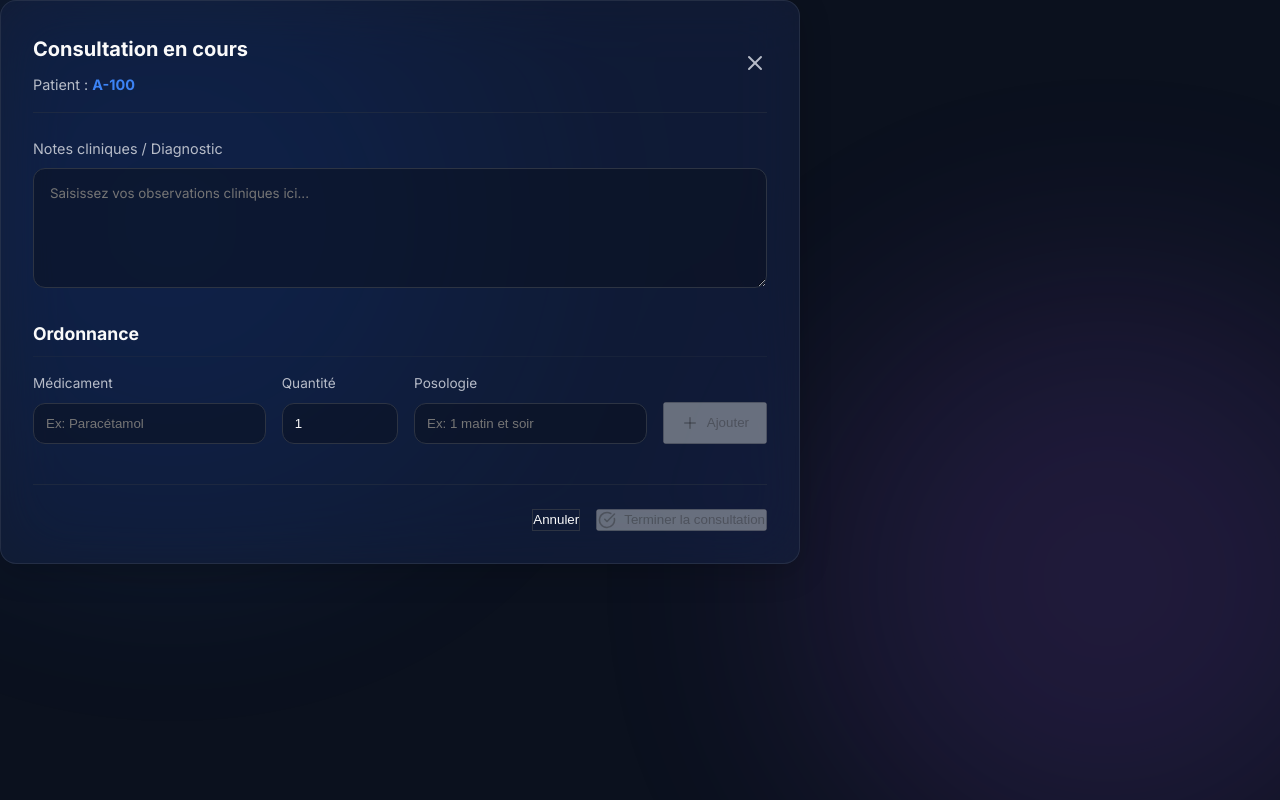
Test case: ConsultationModal › permet de supprimer un médicament ajouté
In the field with placeholder "Ex: Paracétamol": (149, 423) [33,403,266,444], type "Test Med"
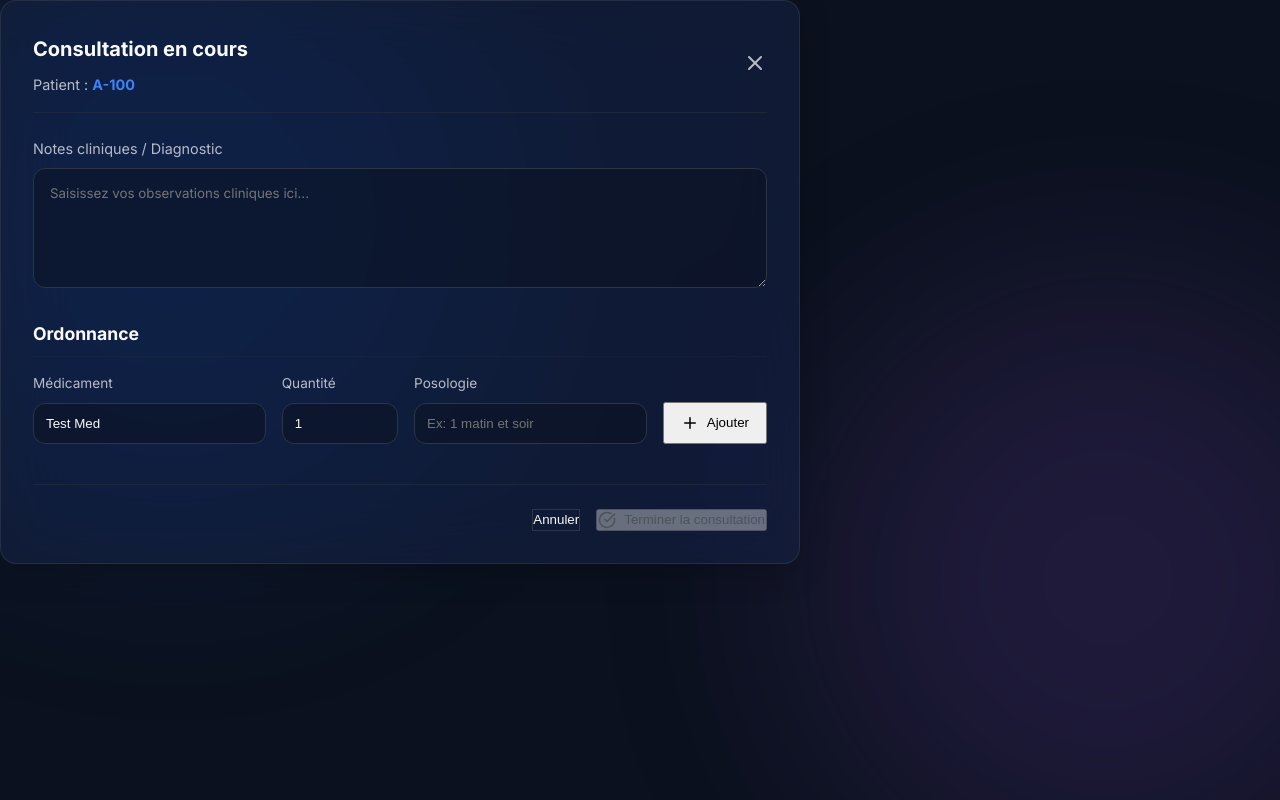
Click the button "Ajouter": (715, 423) [663,402,767,444]
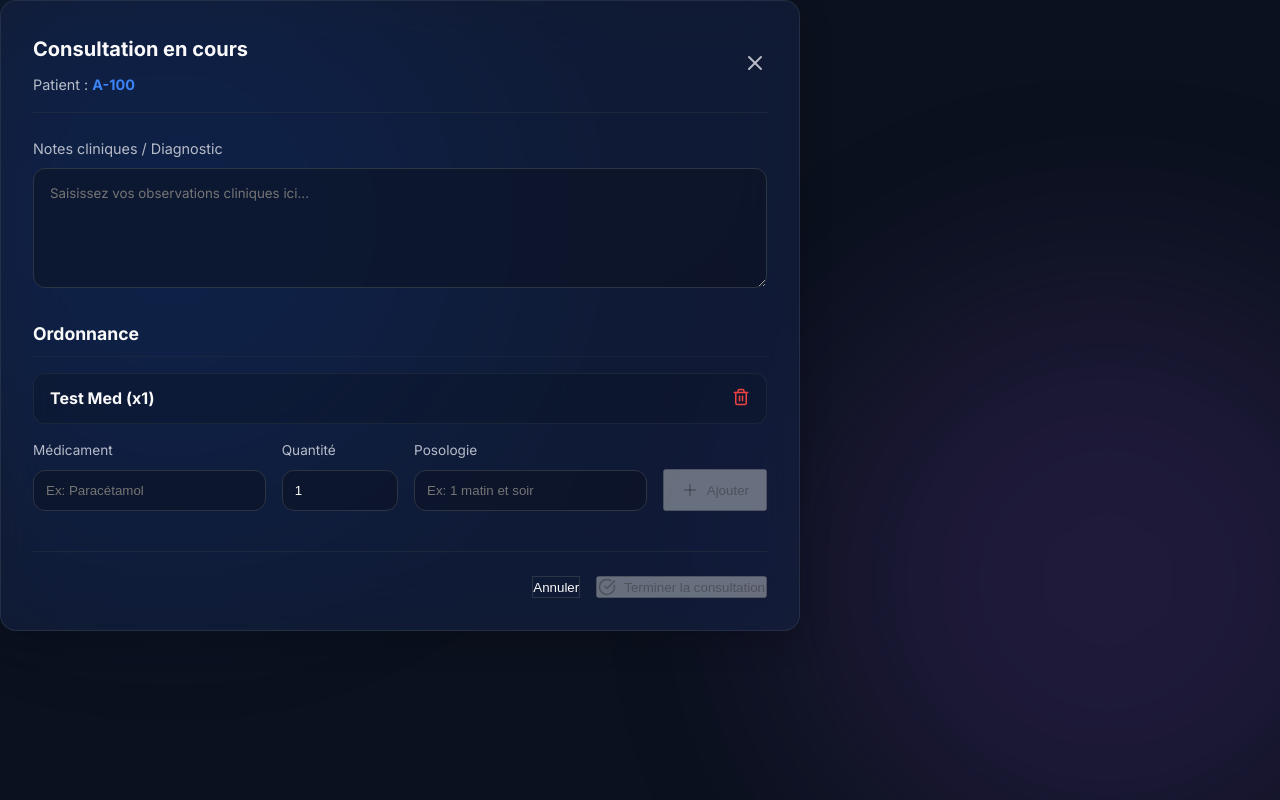
Check: the text "Test Med (x1)" is shown, box [50,386,154,411]
# Find and click delete button (Trash2 icon)
Click the button without text in the row of "Test Med": (741, 399) [732,388,750,409]
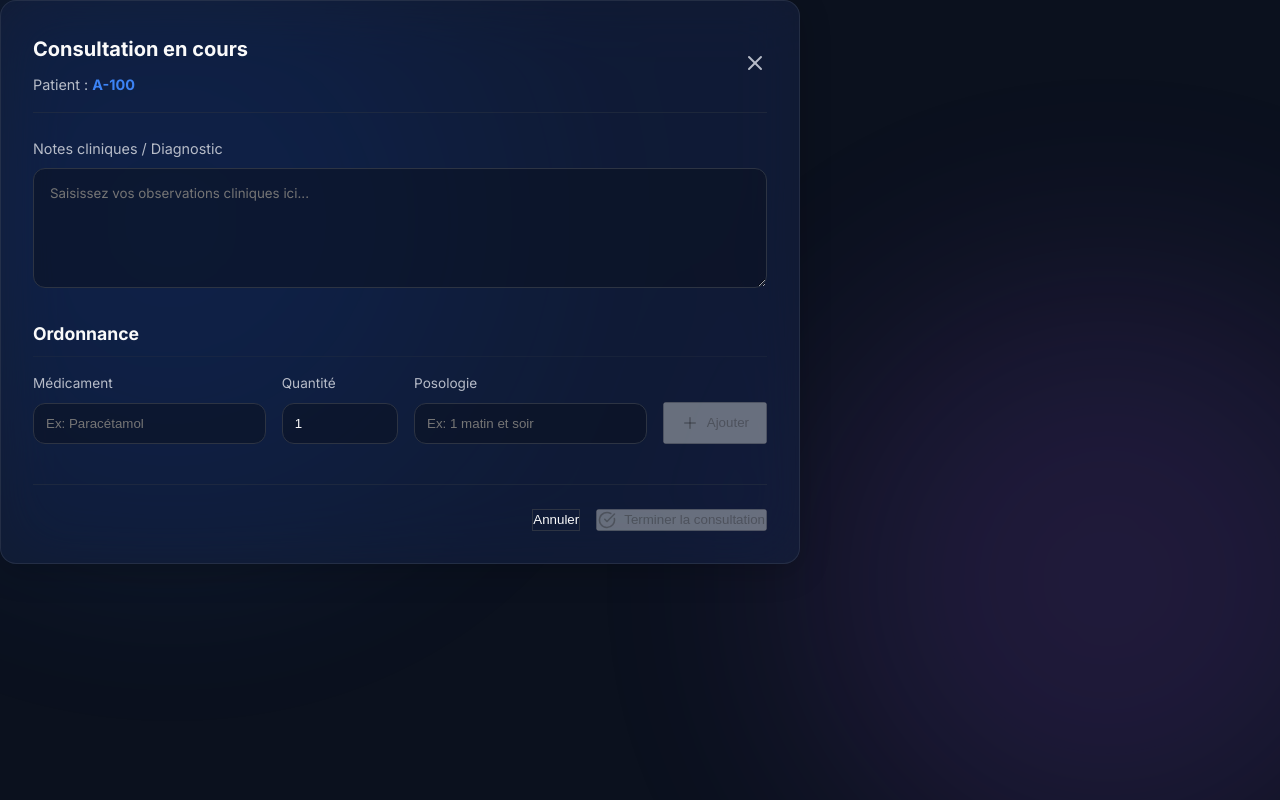
Check: the text "Test Med (x1)" is gone
